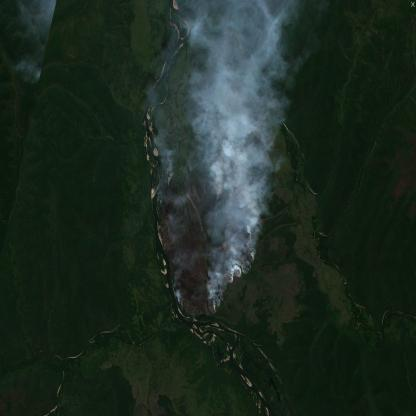fire: (183, 158, 260, 313), (159, 165, 175, 187)
